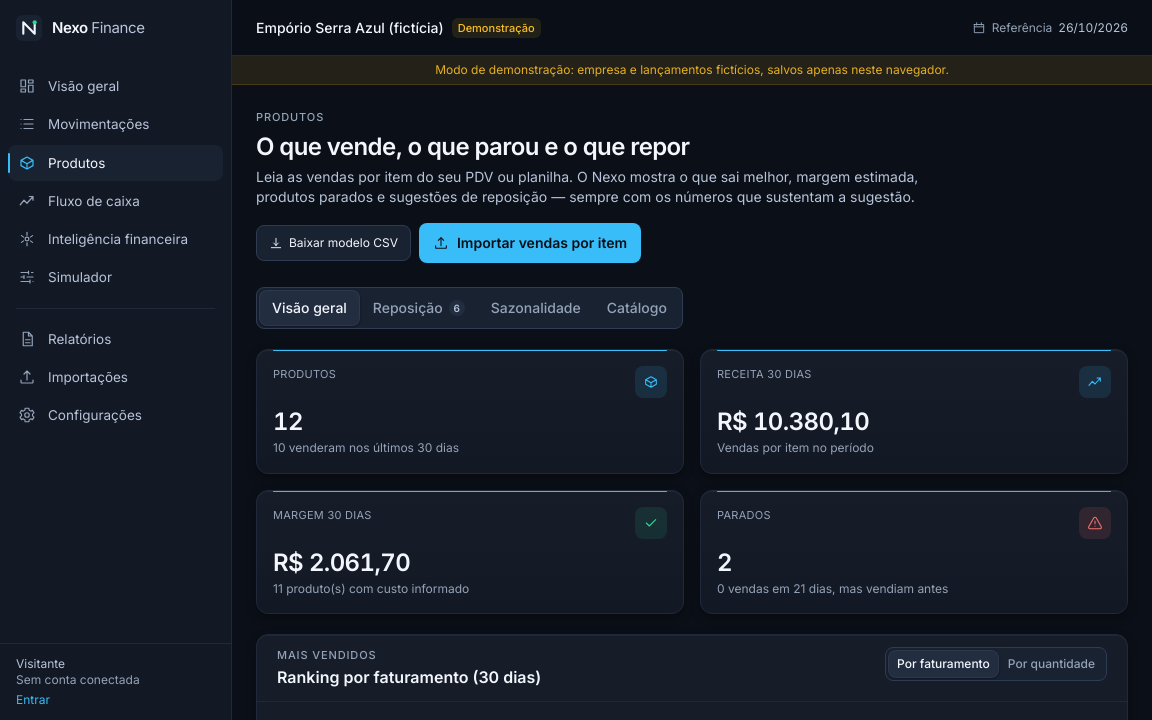
navegação › produtos: mostra os menos vendidos e alterna o ranking por faturamento e quantidade
The image size is (1152, 720).
Check: the heading "O que vende, o que parou e o que repor" is shown, box [256,132,690,161]
Check: the heading "Ranking por faturamento (30 dias)" is shown, box [277,665,541,689]
What coordinates should you click on to do the following:
click the radio button labelled "Por quantidade"
I would click on:
 (1051, 664)
Its box is [999,650,1104,678].
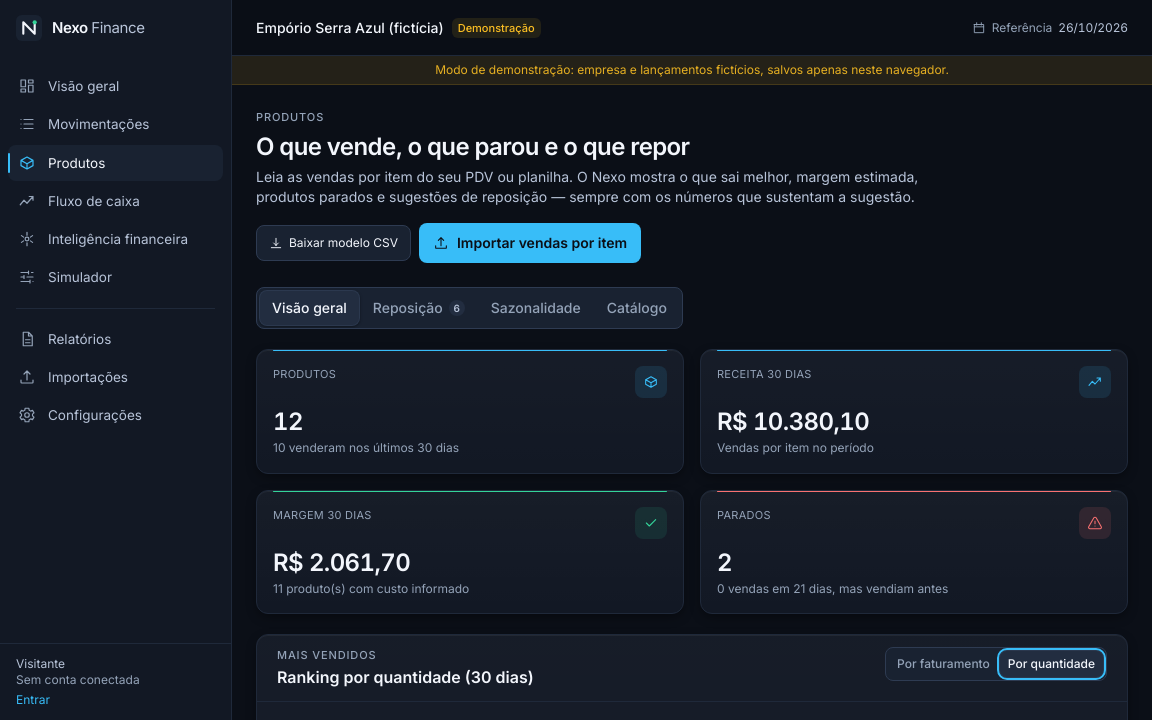
Check: the heading "Ranking por quantidade (30 dias)" is shown, box [277,665,534,689]
